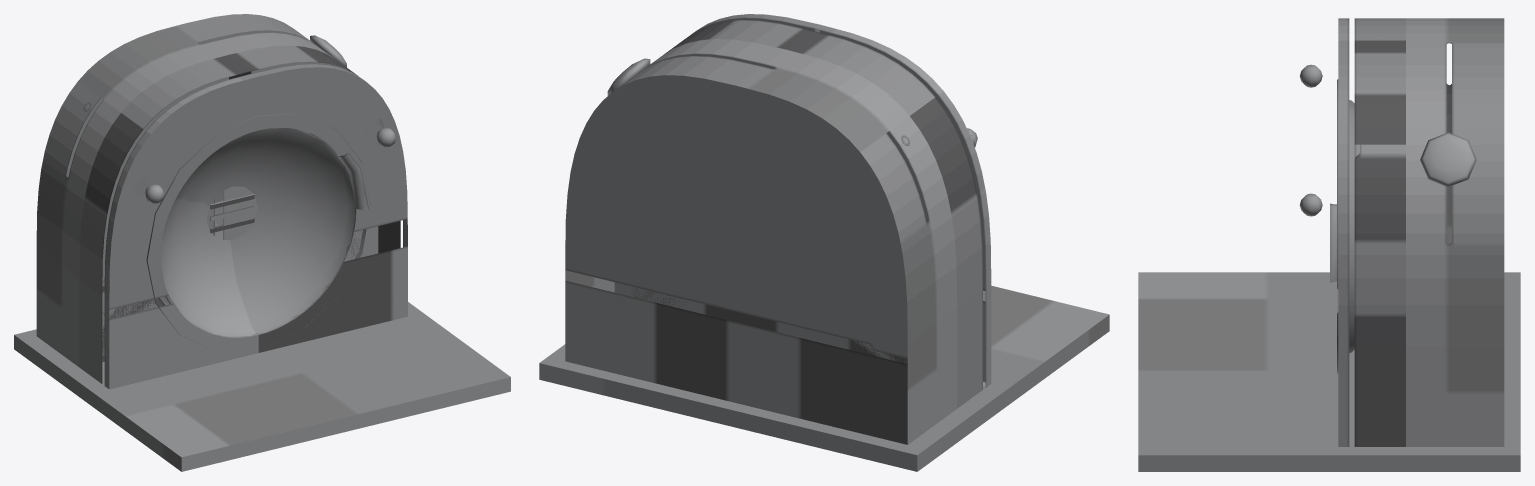
The picture shows the model from 3 angles, left to right: view 1: azimuth 30°, elevation 25°; view 2: azimuth 150°, elevation 25°; view 3: azimuth 270°, elevation 25°; orthographic projection. The views are drawn at different scales.
Size of the model in its own units: 0.64 by 0.5405 by 0.564.
